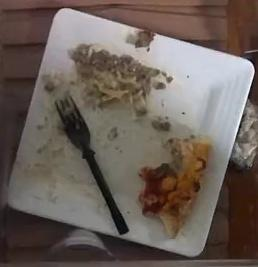pizza_crust: (139, 137, 210, 238)
